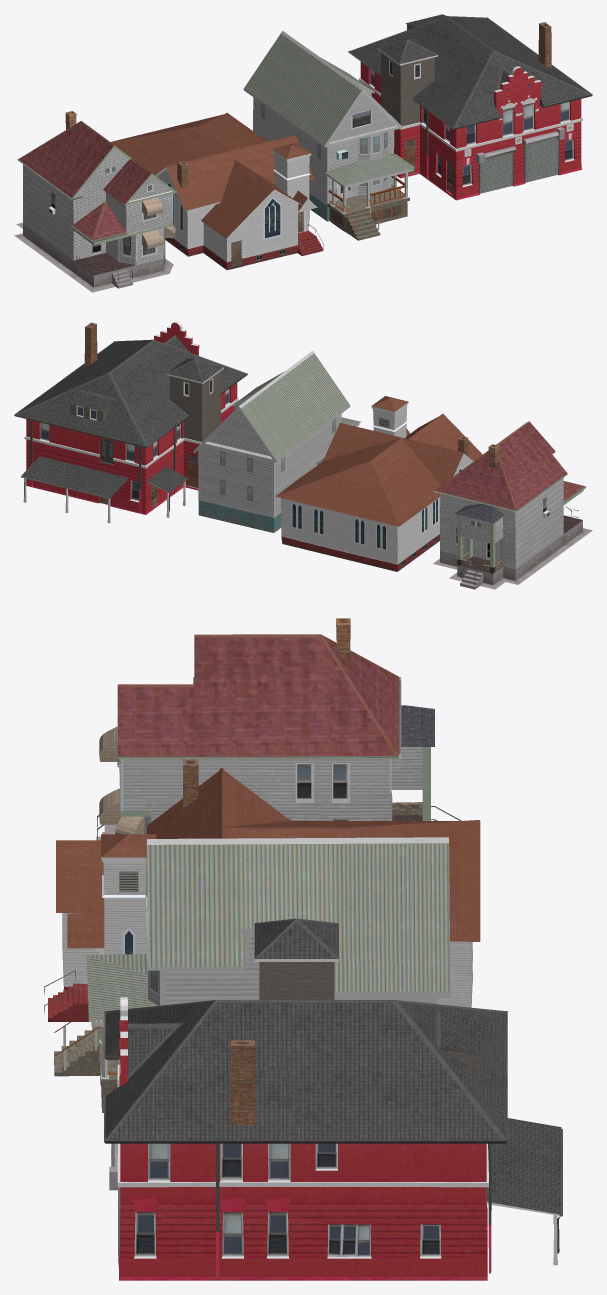
The model's file is village house.fbx.
3 views of the same model, one above another, from view 1: azimuth 30°, elevation 25°; view 2: azimuth 150°, elevation 25°; view 3: azimuth 270°, elevation 25° (orthographic). The views are drawn at different scales.
Parts seen in each view (by area): view 1: village house_003, village house_002, village house_004, village house_001; view 2: village house_003, village house_002, village house_004, village house_001; view 3: village house_003, village house_001, village house_004, village house_002.
Part boxes in pixels (left/top/right/bottom): village house_003: left=348, top=14, right=592, bottom=200; village house_002: left=110, top=112, right=323, bottom=269; village house_004: left=14, top=111, right=177, bottom=292; village house_001: left=243, top=31, right=415, bottom=240; village house_003: left=14, top=321, right=247, bottom=523; village house_002: left=275, top=396, right=482, bottom=571; village house_004: left=433, top=421, right=592, bottom=589; village house_001: left=193, top=350, right=360, bottom=532; village house_003: left=104, top=918, right=562, bottom=1280; village house_001: left=54, top=837, right=450, bottom=1112; village house_004: left=96, top=618, right=461, bottom=840; village house_002: left=44, top=759, right=480, bottom=1021.
Size of the model in its own units: 4458 by 1089 by 2094.
